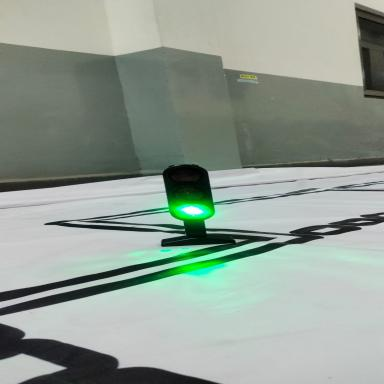green: (122, 156, 270, 276)
